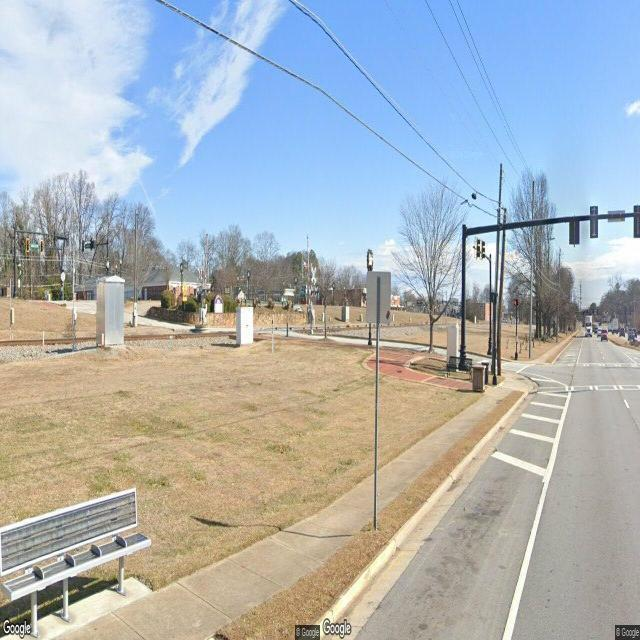seating: (0, 486, 152, 638), (447, 356, 473, 382)
trash_can: (481, 362, 489, 386)
